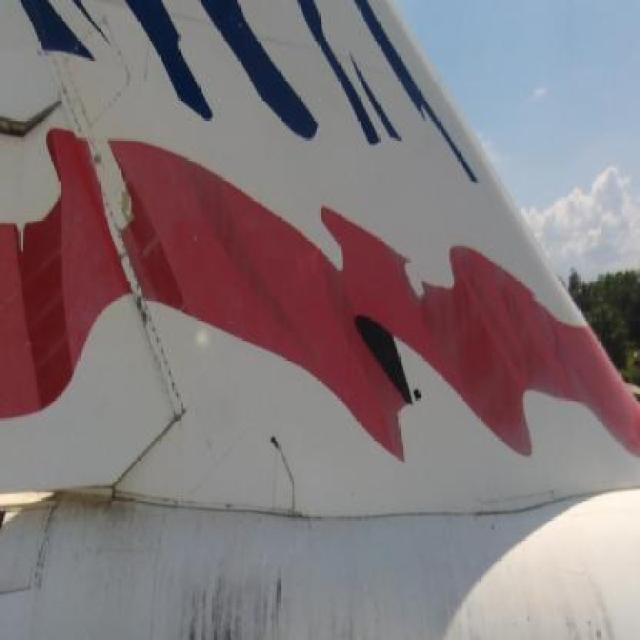Rust: (146, 538, 622, 640)
